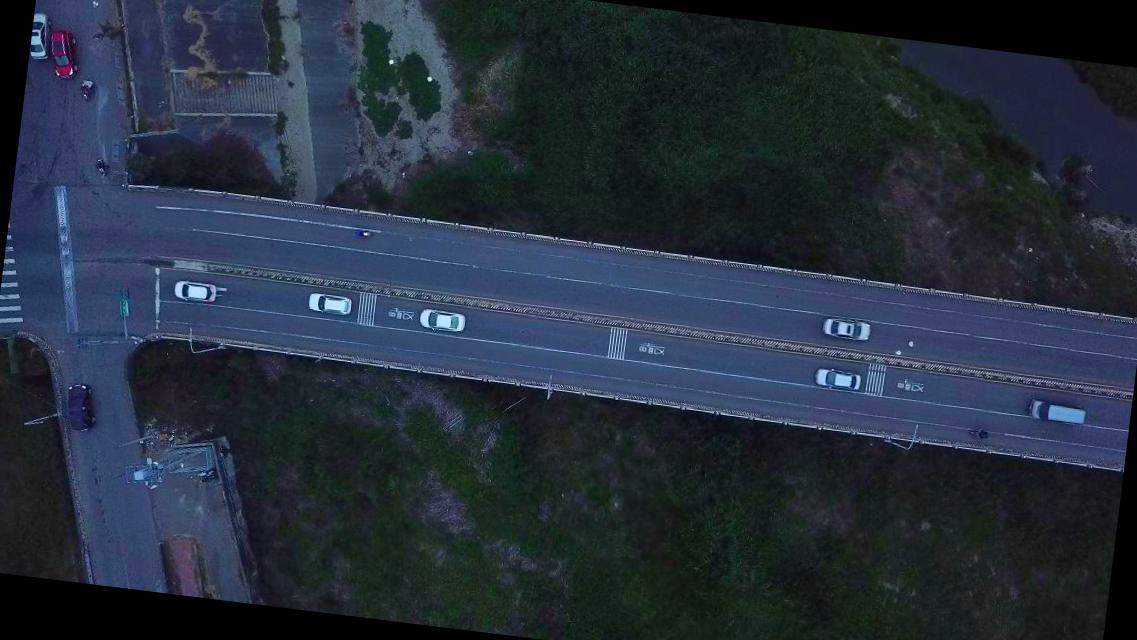vehicle: (44, 28, 82, 81), (63, 381, 99, 432), (1026, 398, 1086, 427), (819, 316, 873, 345), (171, 276, 217, 306), (812, 366, 861, 392), (29, 10, 52, 62), (307, 290, 351, 317), (417, 308, 466, 332)
